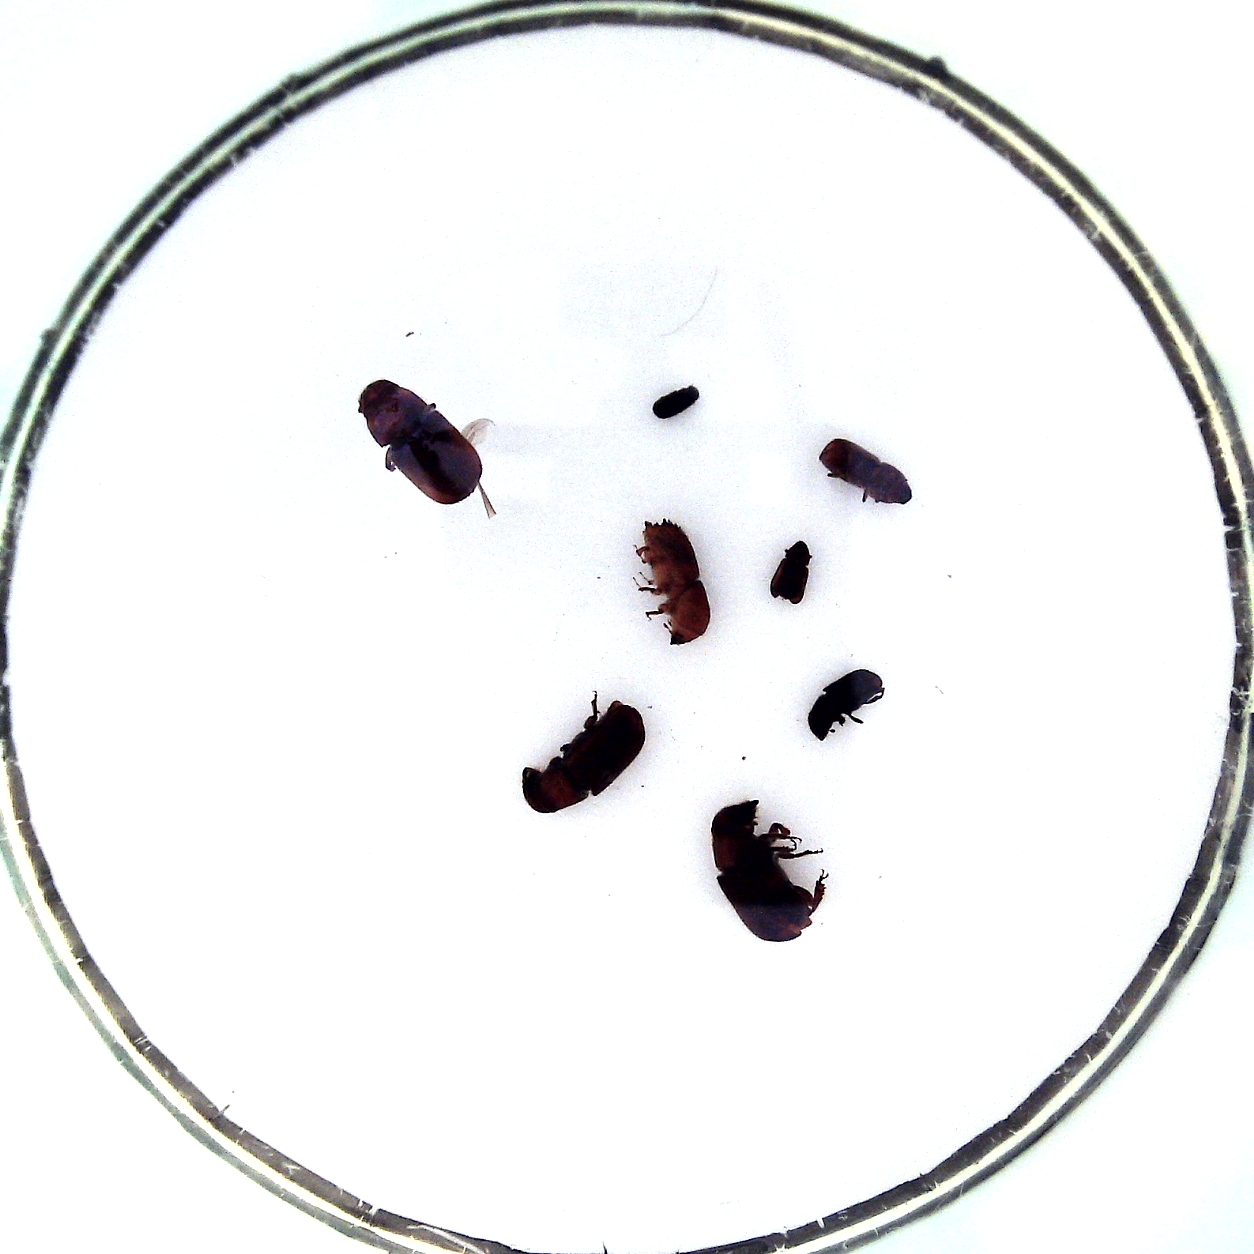Boerner: (643, 517, 710, 647)
Leconte: (357, 377, 483, 504), (712, 800, 825, 942), (521, 700, 645, 814)
acuminatus: (652, 386, 699, 418)
armandi: (808, 668, 884, 742)
coleoptera: (769, 540, 810, 604)
linnaeus: (819, 438, 912, 504)
